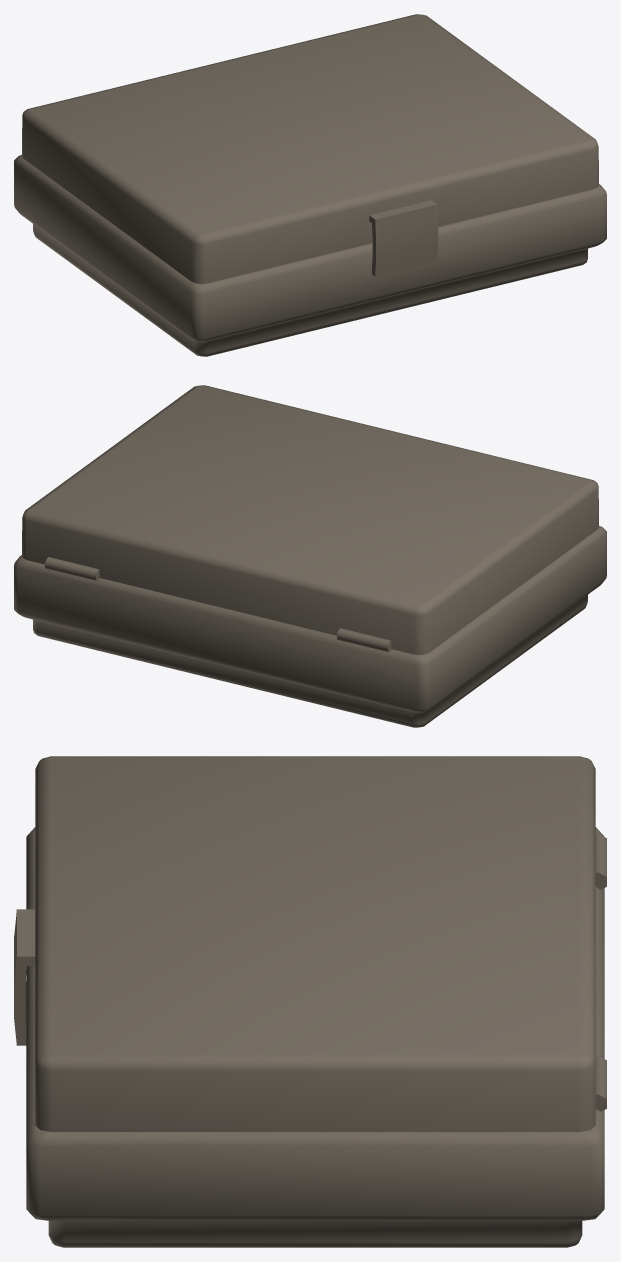
File: blood_test_kit_01.fbx
3 views of the same model, one above another, from view 1: azimuth 30°, elevation 25°; view 2: azimuth 150°, elevation 25°; view 3: azimuth 270°, elevation 25° (orthographic). The views are drawn at different scales.
Visible parts, largest first — view 1: blood_test_kit.top, blood_test_kit; view 2: blood_test_kit.top, blood_test_kit; view 3: blood_test_kit.top, blood_test_kit.
Boxes of the visible parts, bbox=[...] form: blood_test_kit.top: bbox=[22, 14, 598, 283]; blood_test_kit: bbox=[14, 154, 606, 356]; blood_test_kit.top: bbox=[22, 385, 598, 654]; blood_test_kit: bbox=[14, 525, 606, 727]; blood_test_kit.top: bbox=[14, 756, 595, 1131]; blood_test_kit: bbox=[26, 827, 606, 1247].
Size of the model in its own units: 79.77 by 23.27 by 63.36.
